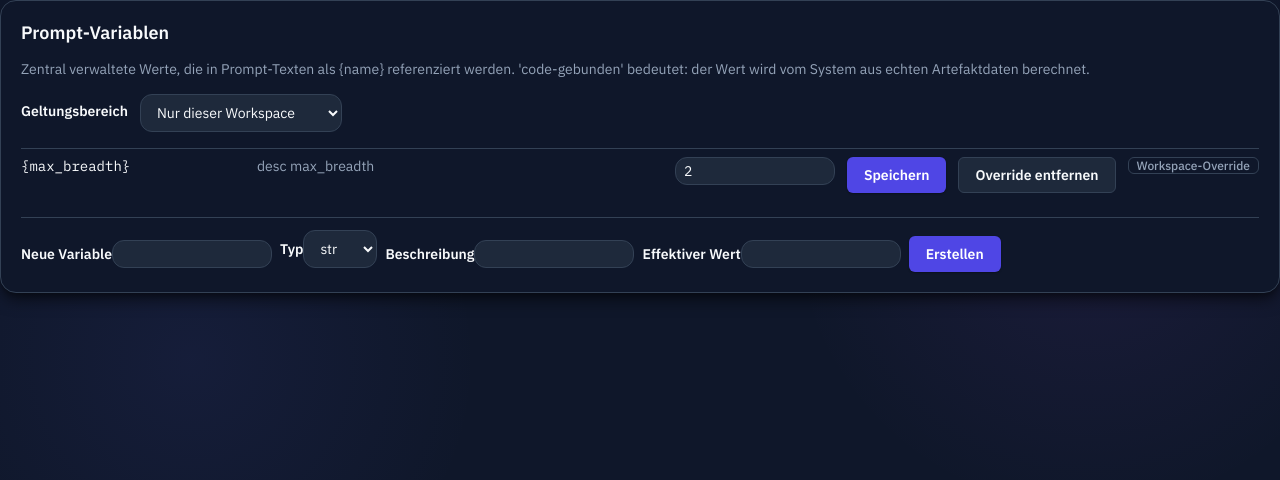
Test case: PromptVariablesSection (spec §5) › keeps the workspace override visible after a global-scope write (review fix #1)
Expected: the field with test id "prompt-variable-max_breadth-input" is shown, [675,157,835,185]
Step 1. Select "Global (alle Workspaces)" in the dropdown with test id "prompt-variables-scope-select" → (241, 113), box [140,94,342,132]
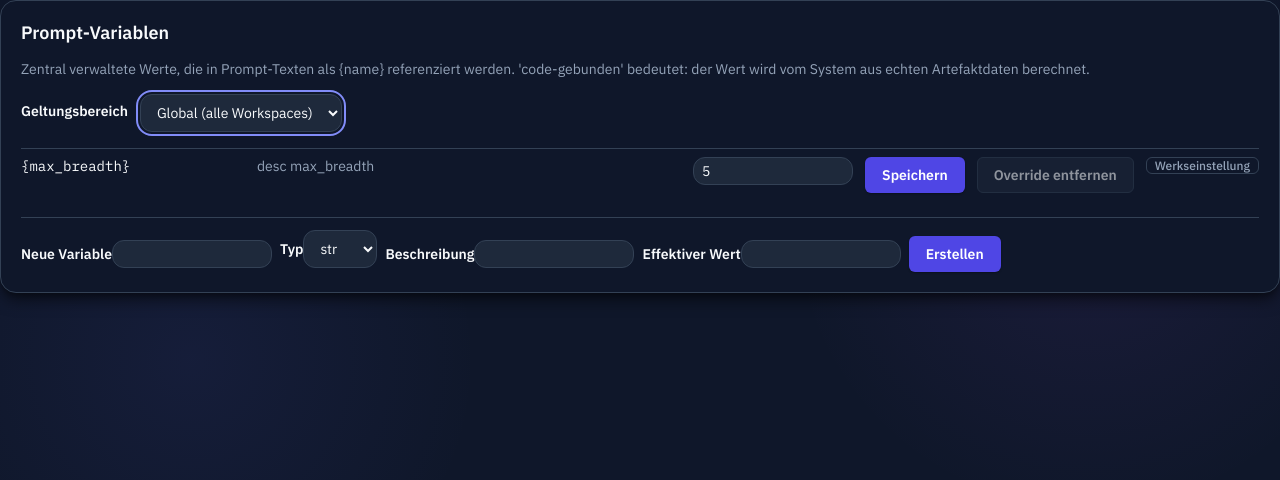
Step 2. Replace the text in the field with test id "prompt-variable-max_breadth-input" with "9" → (773, 171), box [693,157,853,185]
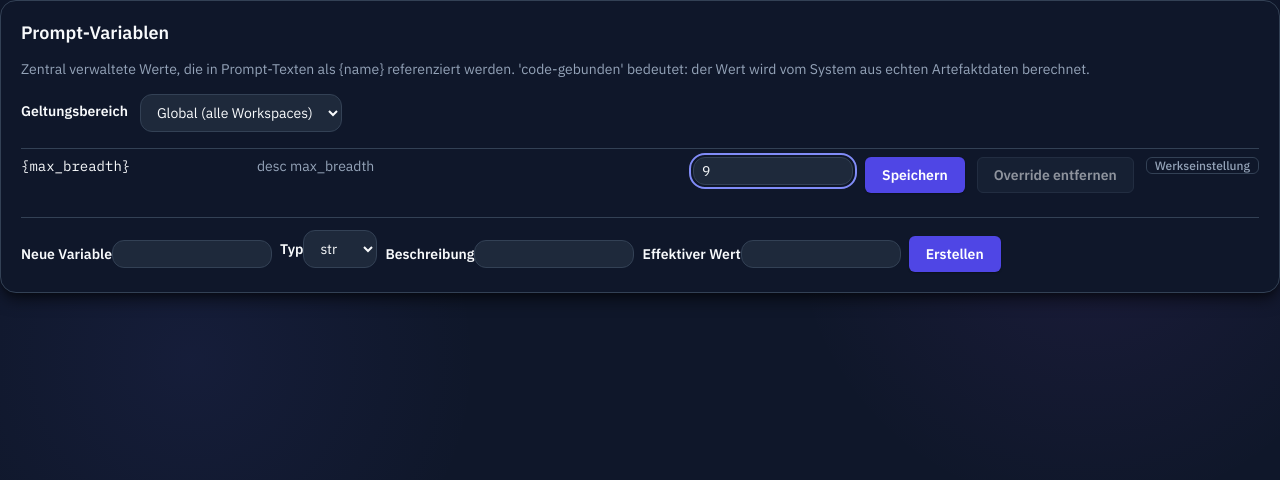
Step 3. Click the button with test id "prompt-variable-max_breadth-save" → (915, 175), box [865,157,965,193]
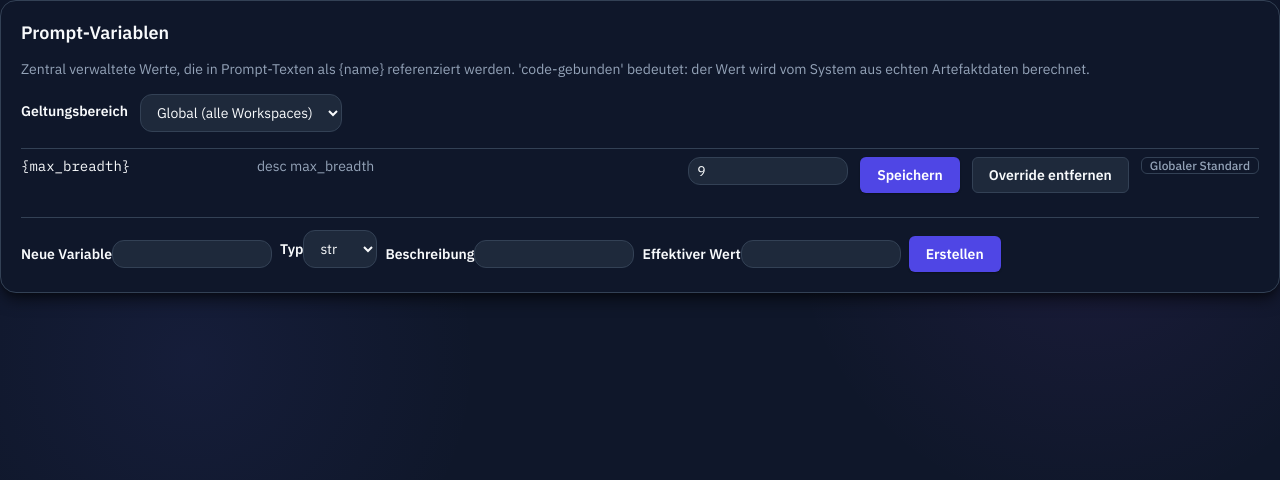
Step 4. Select "Nur dieser Workspace" in the dropdown with test id "prompt-variables-scope-select" → (241, 113), box [140,94,342,132]
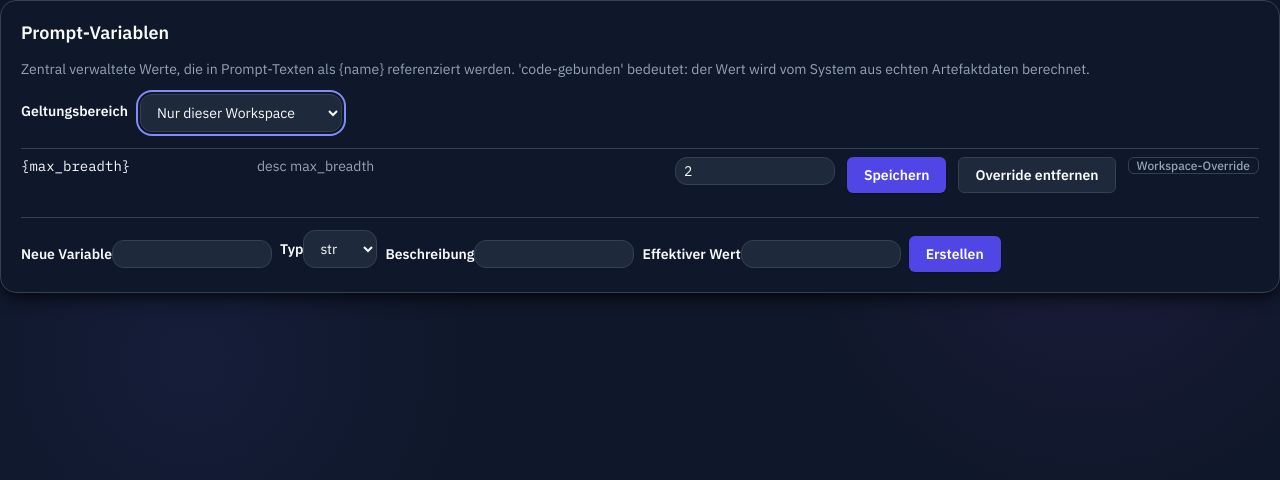
Expected: the field with test id "prompt-variable-max_breadth-input" holds "2", [675,157,835,185]
Expected: the text with test id "prompt-variable-max_breadth-origin" reads "Workspace-Override", [1136,158,1250,173]
